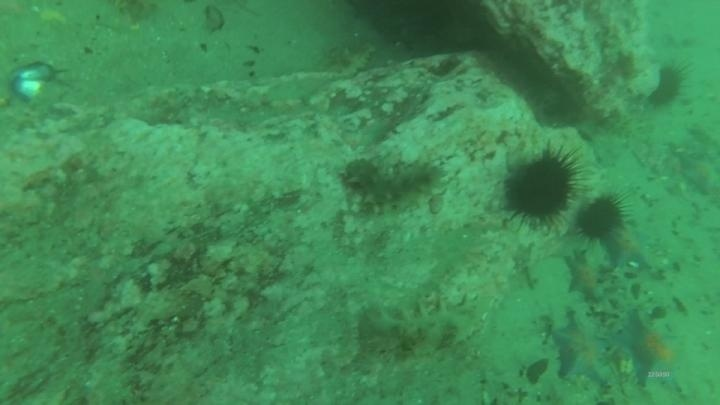echinus: (499, 145, 583, 231), (574, 193, 629, 243), (647, 62, 688, 109)
holothurian: (357, 293, 488, 361), (340, 153, 445, 216), (321, 40, 378, 79)
starfish: (600, 307, 687, 391), (549, 312, 616, 387), (599, 224, 657, 273), (561, 250, 605, 302), (675, 148, 720, 197)
